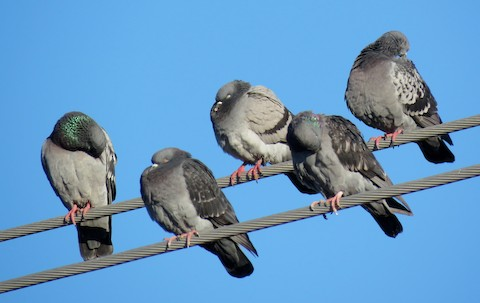pigeon: (282, 109, 416, 249), (138, 143, 259, 280), (339, 29, 459, 166), (36, 108, 121, 263), (206, 78, 324, 185)
